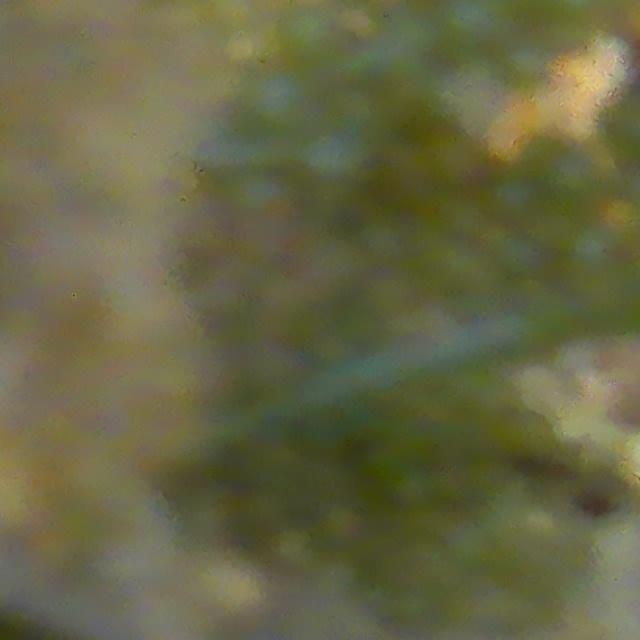SeaGrape: (243, 59, 322, 137), (293, 122, 356, 189), (437, 0, 508, 55), (483, 169, 540, 226), (435, 190, 487, 243)
